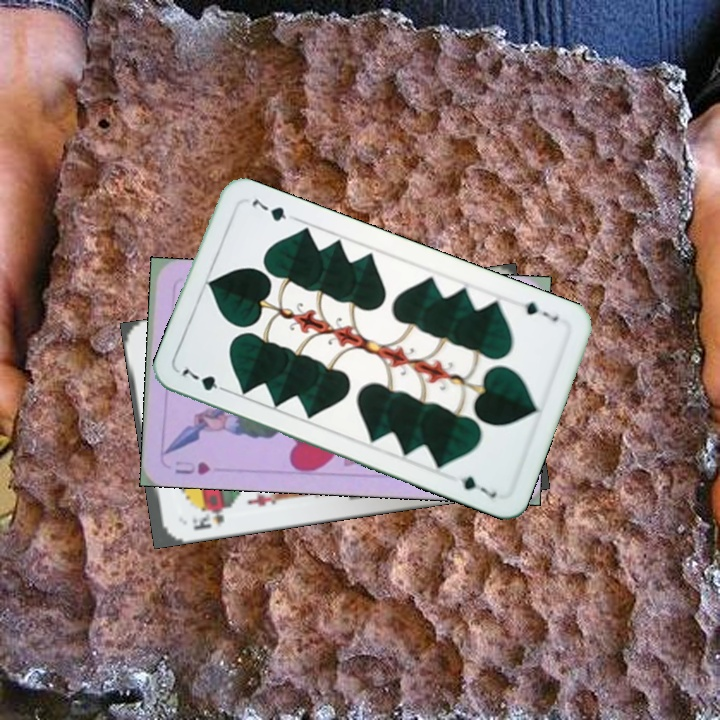G7: (177, 363, 233, 395), (520, 298, 561, 325)
HU: (170, 457, 214, 477)
SK: (188, 502, 233, 533)
